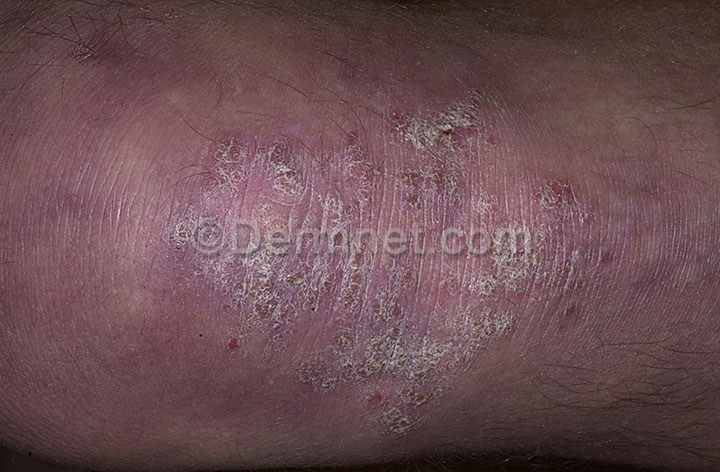Psoriasis: (192, 143, 632, 336), (302, 321, 524, 441), (385, 69, 516, 188)
